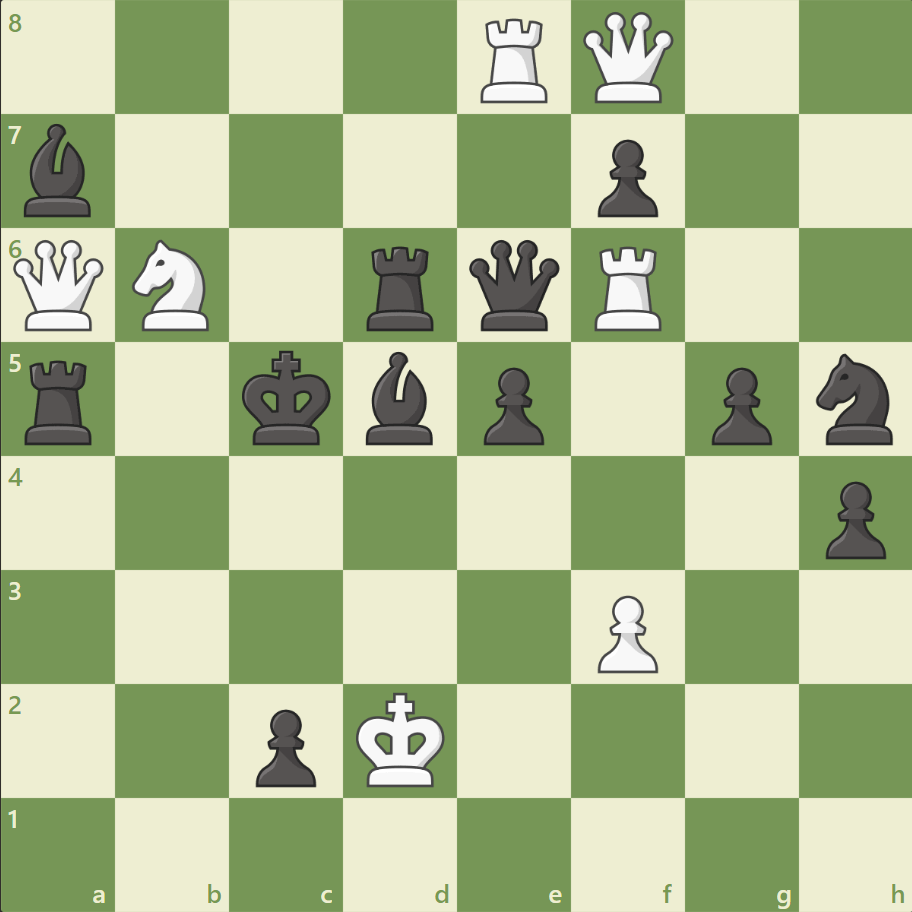K: (351, 685, 451, 793)
N: (124, 234, 222, 337)
P: (588, 586, 662, 677)
Q: (578, 9, 677, 108), (10, 236, 109, 335)
R: (473, 12, 556, 109), (587, 239, 670, 336)
b: (17, 120, 101, 222), (358, 347, 442, 449)
k: (238, 344, 338, 452)
n: (806, 348, 903, 450)
p: (474, 359, 549, 450), (701, 359, 776, 450), (247, 700, 322, 791), (588, 132, 662, 223), (815, 473, 889, 564)
q: (464, 236, 563, 335)
r: (19, 352, 102, 449), (360, 239, 442, 336)
